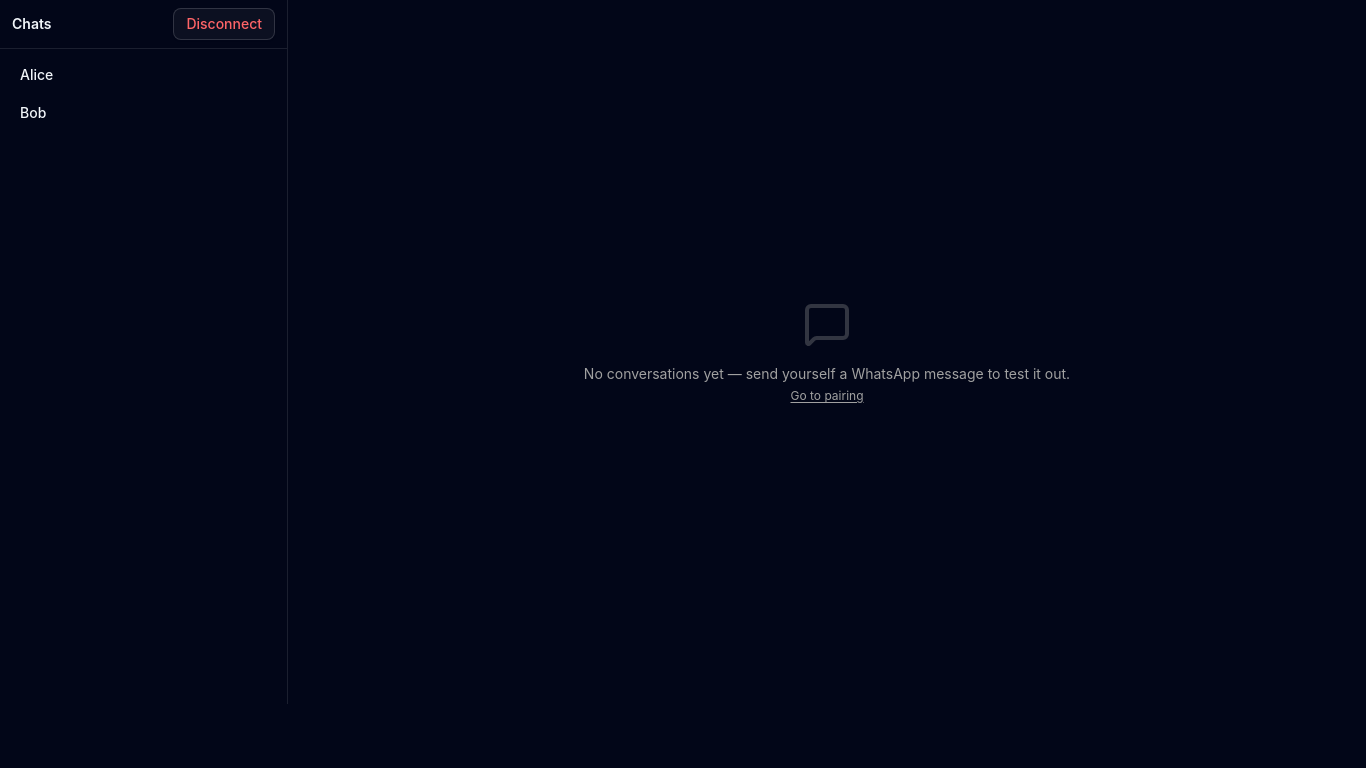
Test: Chats › clicking a conversation fetches and renders its messages
The width and height of the screenshot is (1366, 768).
Step 1. Click the option with test id "conv-item-c1" → click(37, 74), box [8,57,279,93]
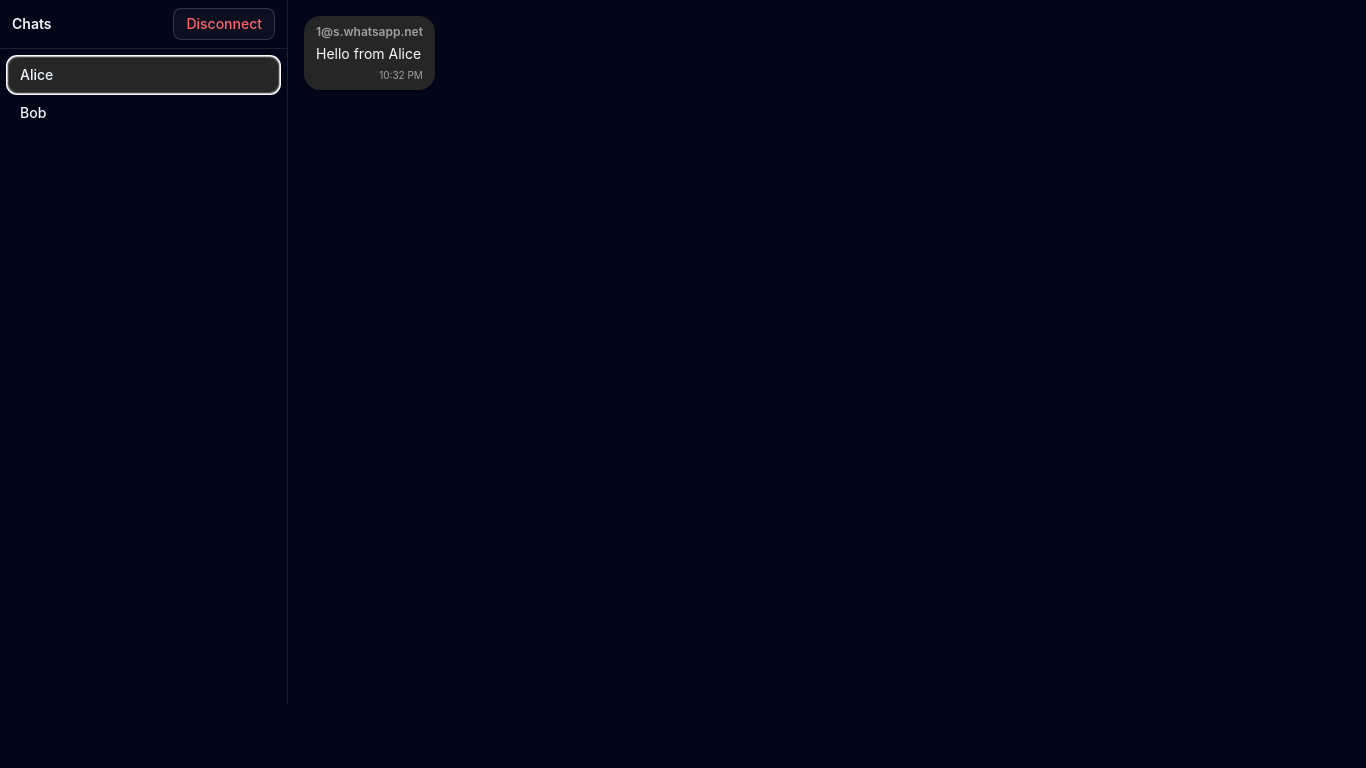
Expected: the element with test id "message-list" is shown, [304,16,435,90]
Expected: the text "Hello from Alice" is shown, [316,44,423,64]
